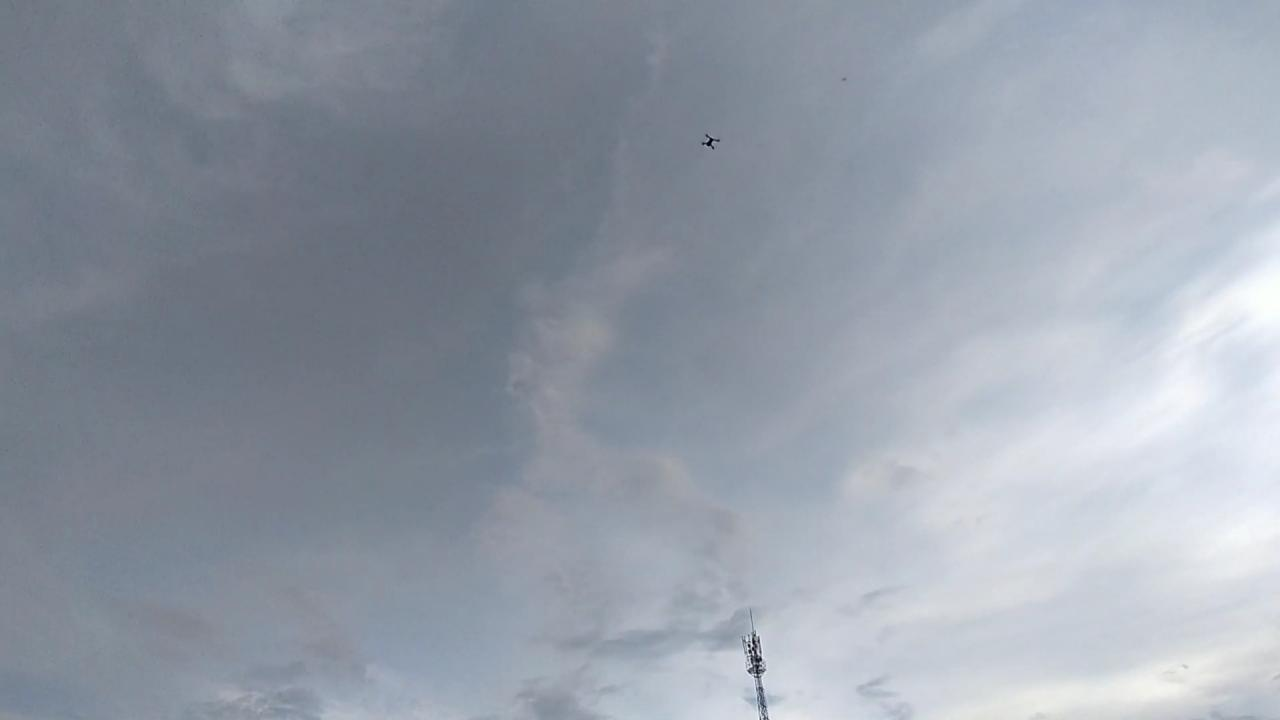Drone: (688, 123, 731, 162)
